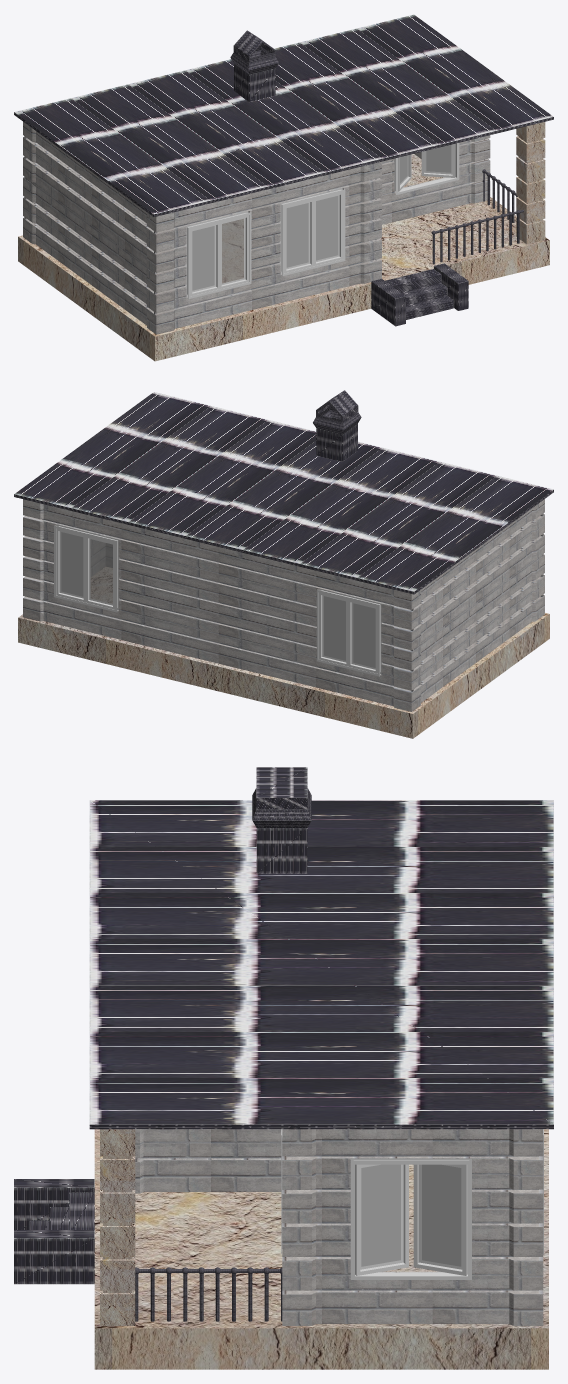
3 views of the same model, one above another, from view 1: azimuth 30°, elevation 25°; view 2: azimuth 150°, elevation 25°; view 3: azimuth 270°, elevation 25° (orthographic). The views are drawn at different scales.
Parts seen in each view (by area): view 1: Line002, Rectangle001, Box001, CasementWindow001, Box003; view 2: Line002, Rectangle001, Box001, CasementWindow001; view 3: Line002, Rectangle001, Box001, CasementWindow001, Box003.
Boxes of the visible parts, x1=… form: Line002: x1=14, y1=14, x2=553, y2=326; Rectangle001: x1=23, y1=122, x2=490, y2=334; Box001: x1=18, y1=154, x2=549, y2=361; CasementWindow001: x1=185, y1=143, x2=459, y2=299; Box003: x1=516, y1=122, x2=545, y2=244; Line002: x1=14, y1=390, x2=553, y2=594; Rectangle001: x1=23, y1=499, x2=544, y2=711; Box001: x1=18, y1=567, x2=549, y2=738; CasementWindow001: x1=54, y1=525, x2=382, y2=676; Line002: x1=14, y1=767, x2=553, y2=1321; Rectangle001: x1=135, y1=1129, x2=543, y2=1325; Box001: x1=94, y1=1129, x2=548, y2=1369; CasementWindow001: x1=281, y1=1129, x2=543, y2=1279; Box003: x1=100, y1=1129, x2=135, y2=1325.
Bounding box in the file's own units: 760 × 448 × 535.
5 materials, 3 textured.
